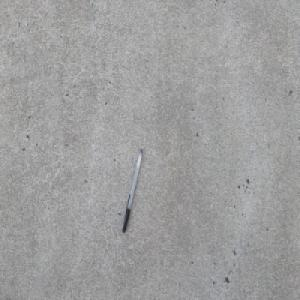Pen: (121, 147, 143, 233)
